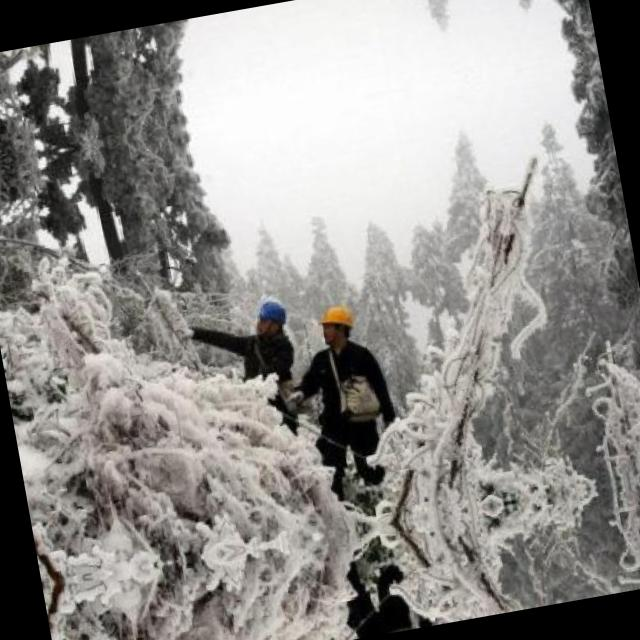helmet: (312, 298, 358, 349), (250, 295, 290, 340)
